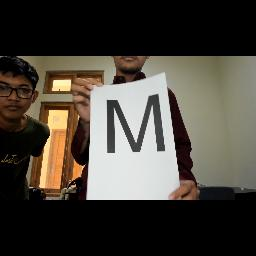m: (102, 92, 168, 158)
